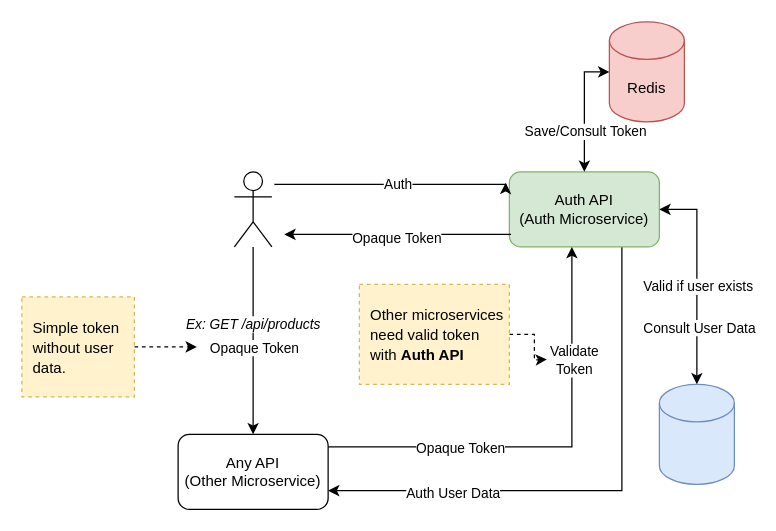
Image size: 776x531. Some labels were removed from this diagram. Each missing label, with the centre of its shape:
"Postgres" belongs at (696,433).
"User" belongs at (252,209).
